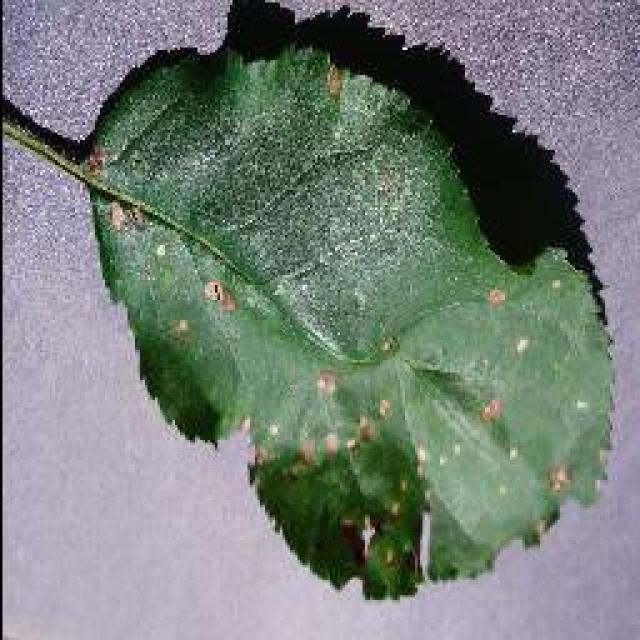apple black rot: (75, 0, 617, 600)
